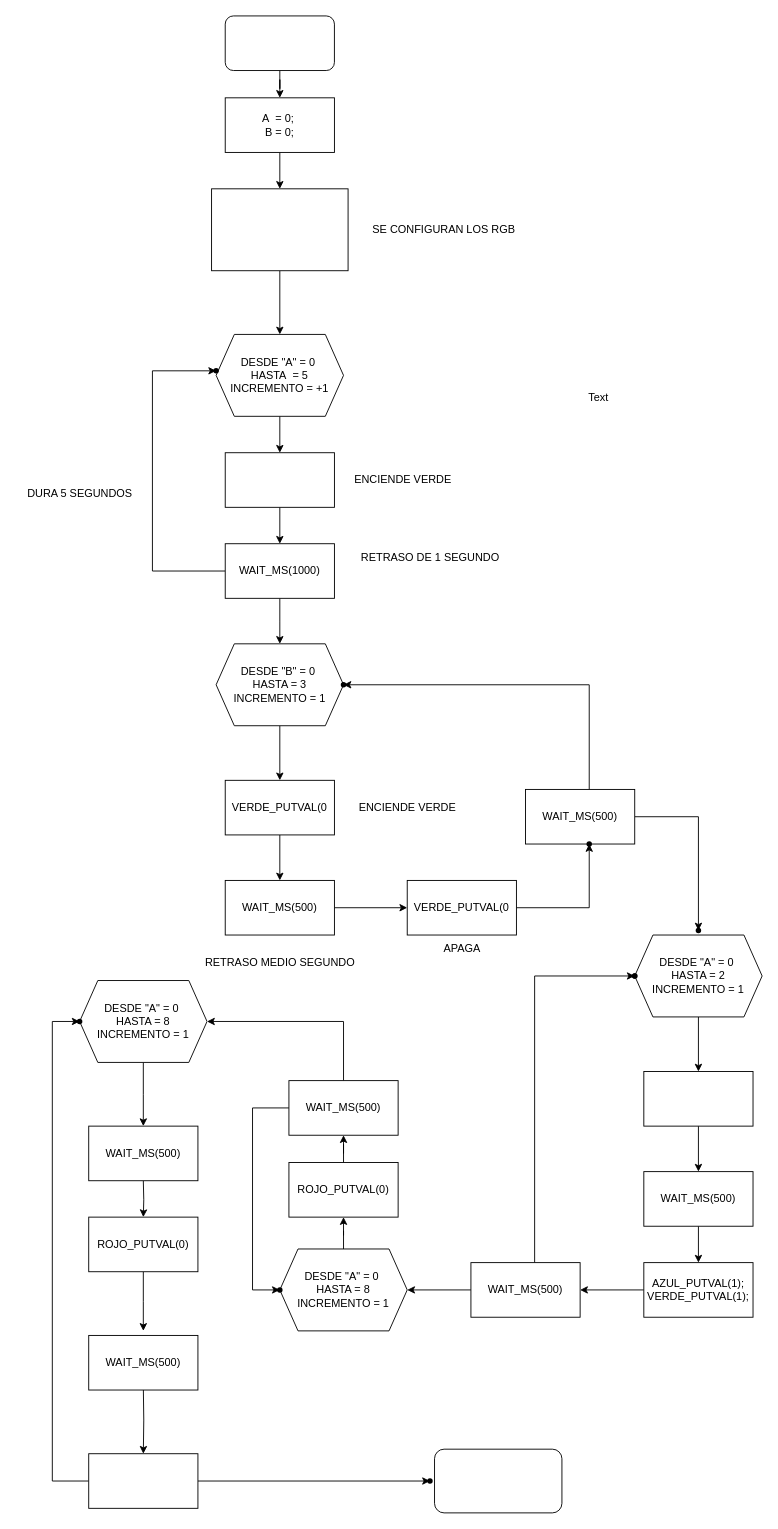
This 778x1529 diagram has some shape labels left out. The shapes that lost their labels are listed below. From the top down, each one's centre as x and y in pixels, then its label:
the point at 279,43: PRACTICA 1 EJERCICIO 1
the point at 279,229: LED_VERDE LED_ROJO LED_AZUL
the point at 279,479: VERDE_PUTVAL(0)
the point at 698,1098: AZUL_PUTVAL(0); VERDE_PUTVAL(0);
the point at 143,1480: ROJO_PUTVAL(1)
the point at 498,1480: FIN
